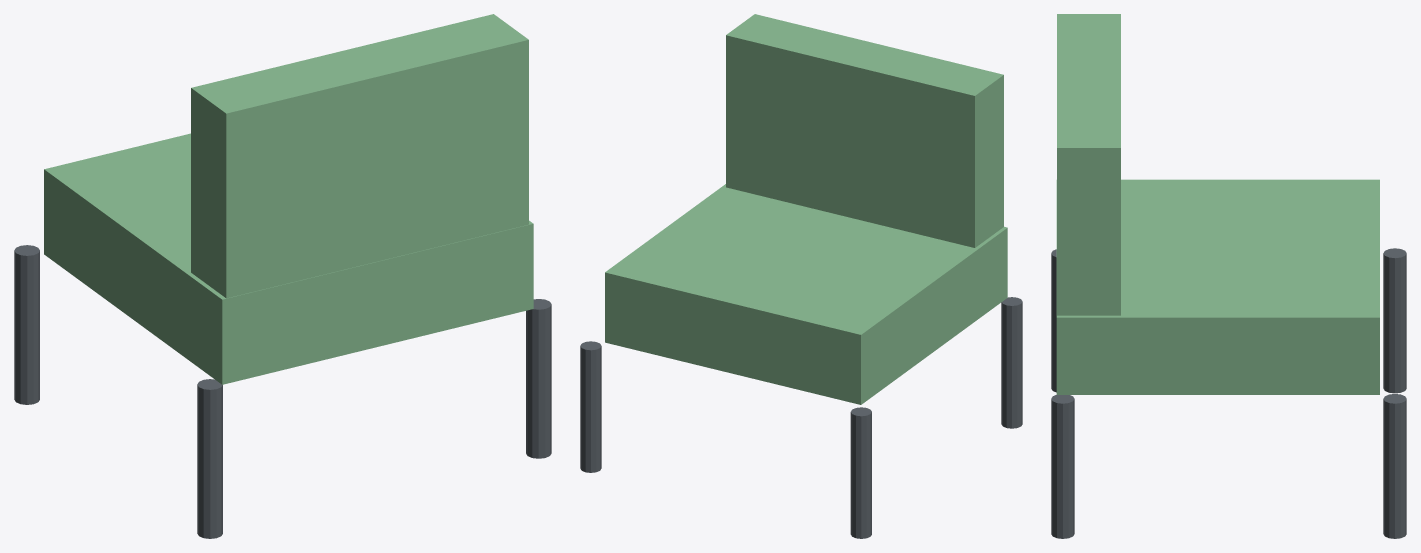
File: office_lounge_seating_reference_board_78.glb
3 views of the same model, side by side, from view 1: azimuth 30°, elevation 25°; view 2: azimuth 150°, elevation 25°; view 3: azimuth 270°, elevation 25° (orthographic). The views are drawn at different scales.
Parts seen in each view (by area): view 1: Cylinder; view 2: Cylinder; view 3: Cylinder.
Part boxes in pixels (bbox=[...]): Cylinder: bbox=[14, 14, 551, 538]; Cylinder: bbox=[580, 14, 1022, 538]; Cylinder: bbox=[1051, 14, 1406, 538].
Bounding box in the file's own units: 0.6837 × 0.78 × 0.6611.
